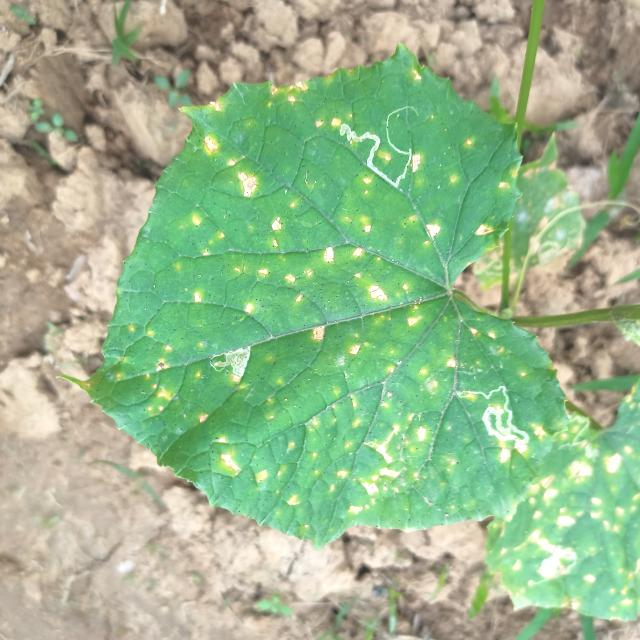disease_cucumber: (126, 95, 550, 517), (514, 456, 636, 592)
